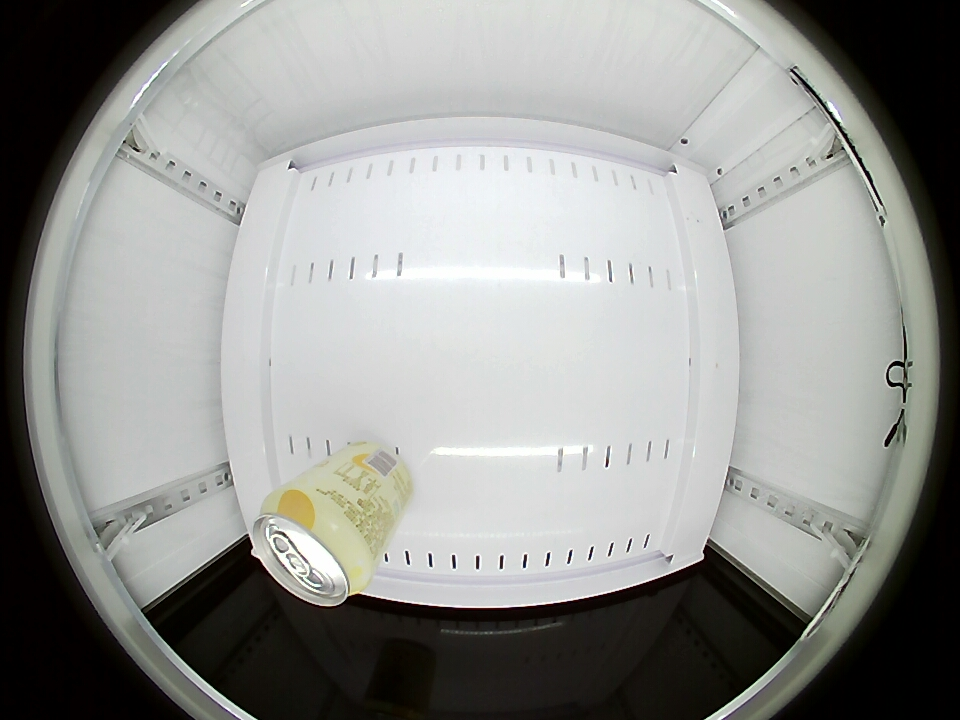mangguoxiaolao: (251, 488, 375, 607)
